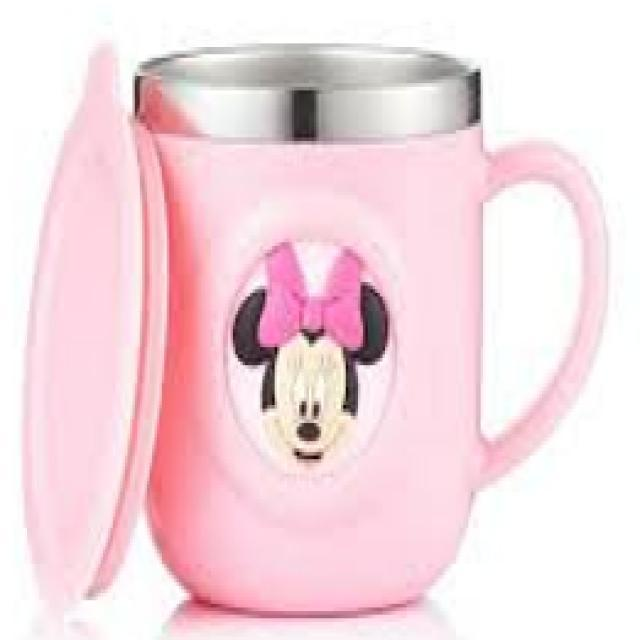taza: (130, 44, 612, 614)
